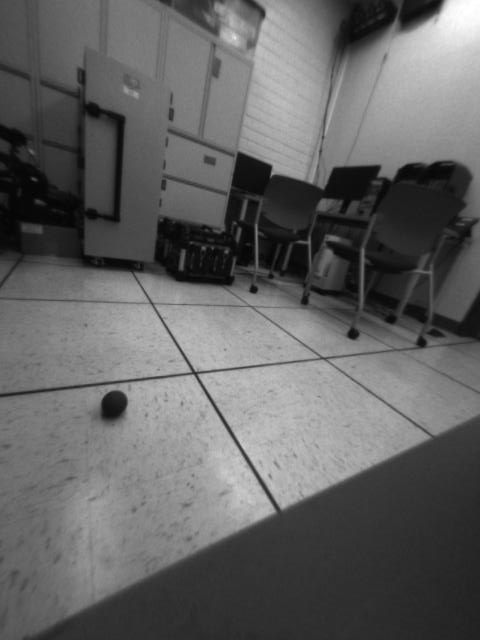dogtoy: (88, 382, 134, 425)
